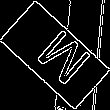M_SW: (22, 21, 88, 89)
